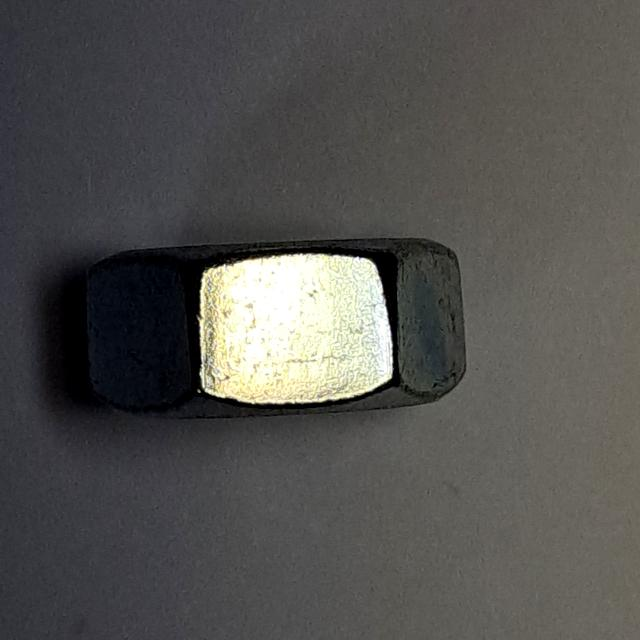Side_Excellent: (70, 212, 480, 440)
